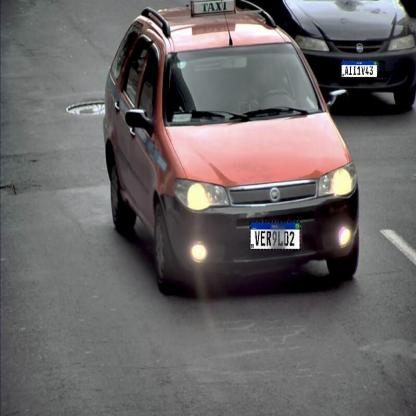PlacaM: (250, 221, 300, 250), (341, 60, 378, 78)
